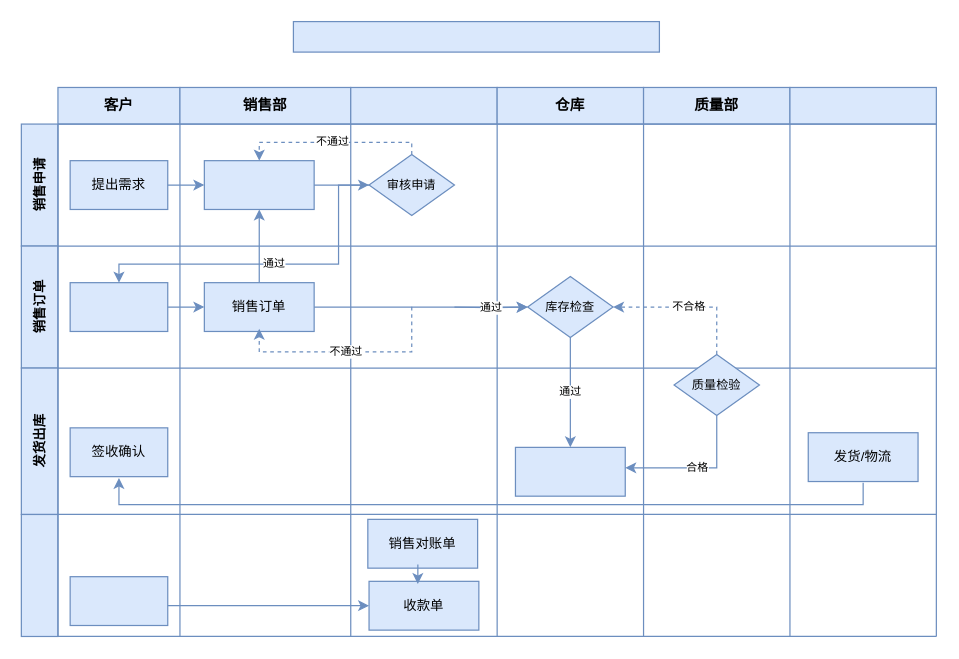
The diagram is 959 pixels wide and 659 high, and some of its shapes have lost their labels. The shapes that lost their labels are listed below. From the top down, each one's centre as x and y in pixels, then its label:
pixel 475 36: PulseX ERP 标准销售业务流程
pixel 423 105: 财务部
pixel 862 105: 物流
pixel 258 184: 销售报价单
pixel 118 306: 确认订单
pixel 569 471: 销售出库单
pixel 39 574: 结算与收款
pixel 118 600: 付款
